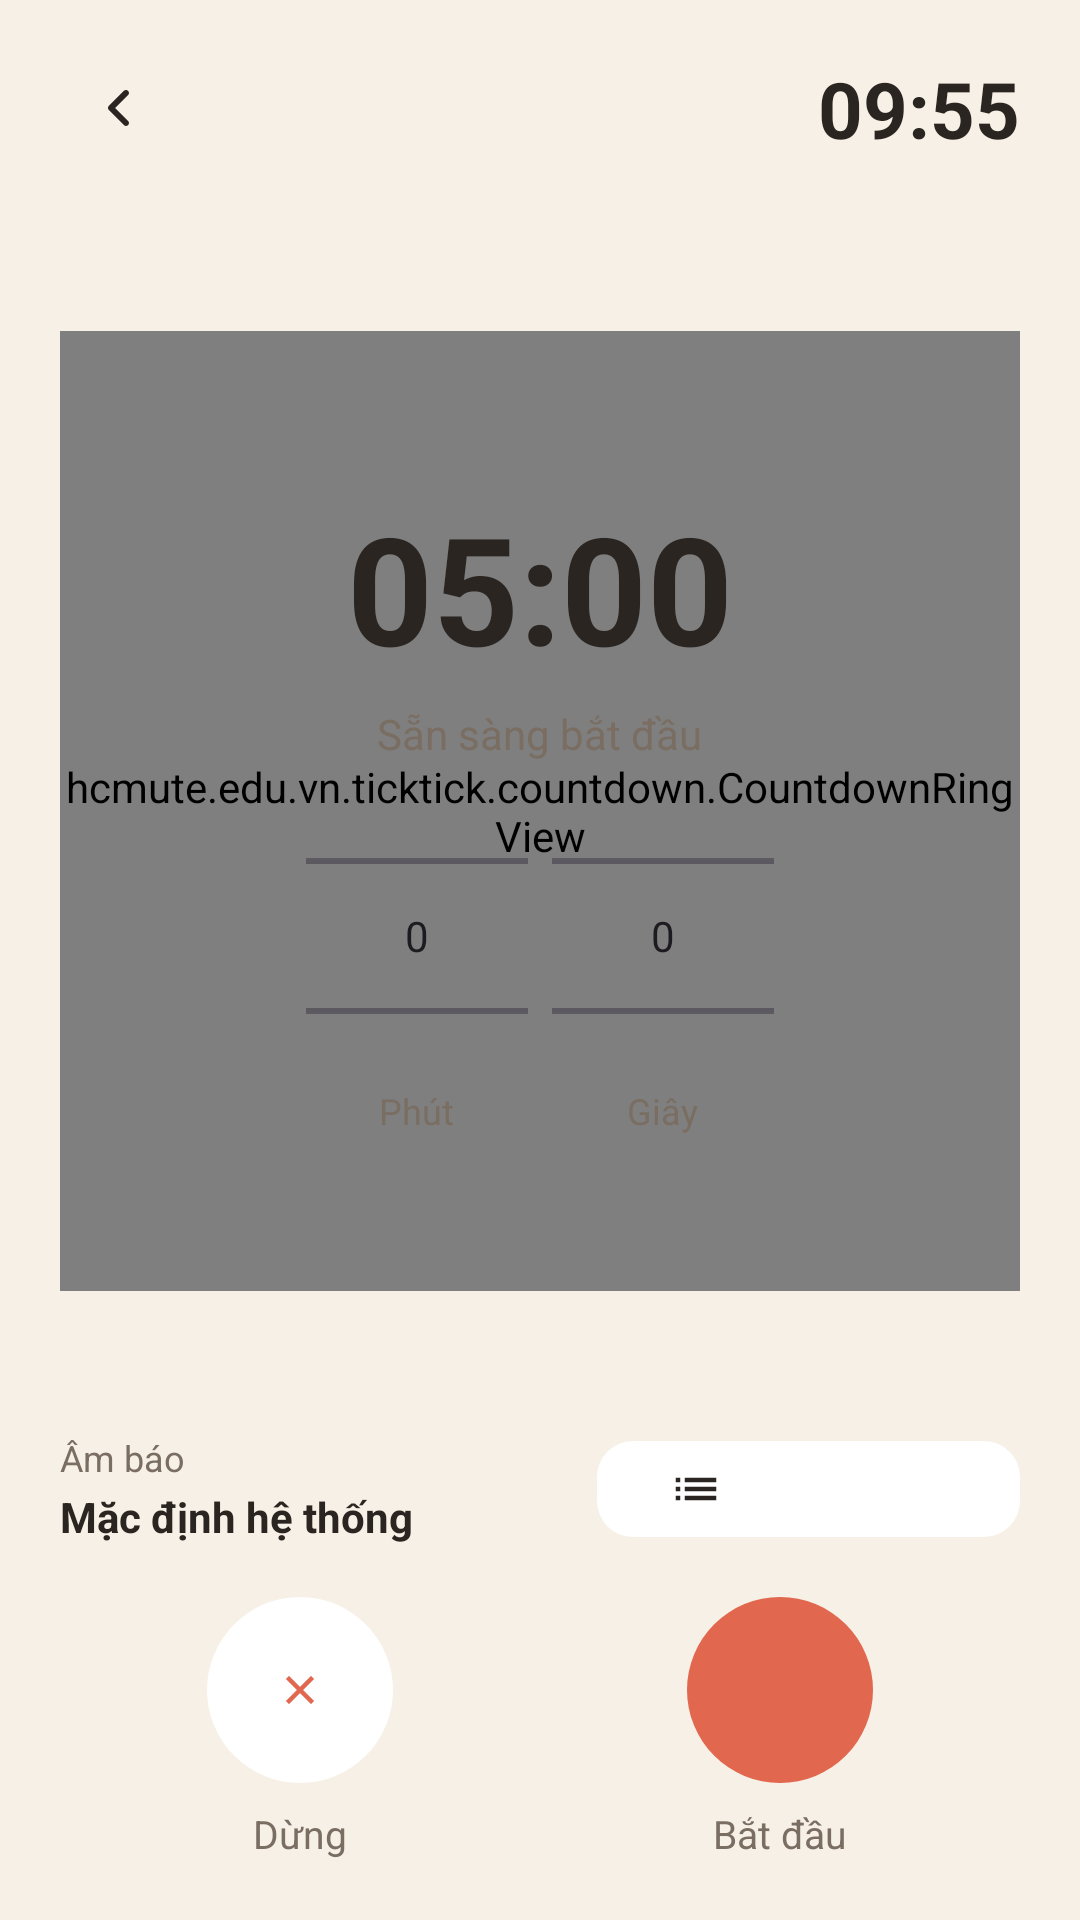

Icon bounding boxes for this 1080×1920 phone screenshot, format (x1, y1, x2, y2):
Quay lại: (108, 90, 129, 126)
